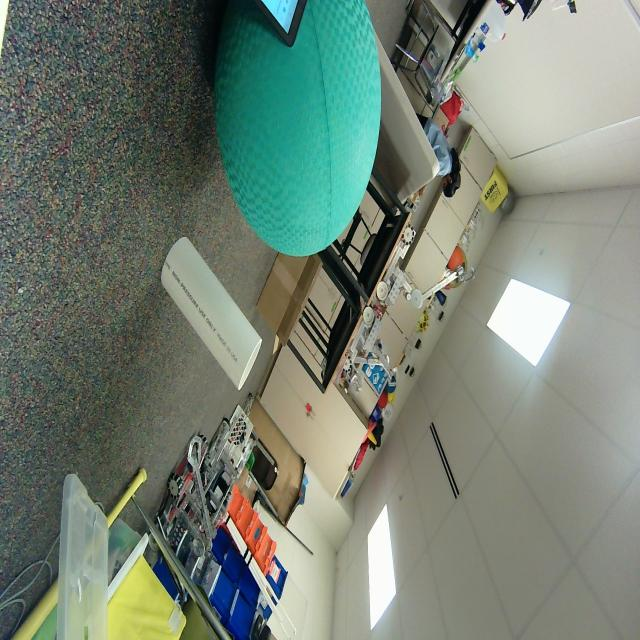algae: (211, 50, 410, 261)
coral: (158, 238, 264, 402)
